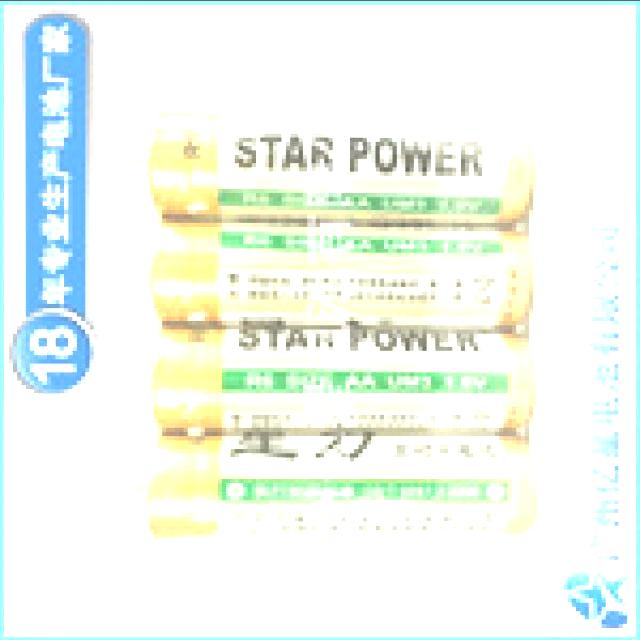AA: (129, 100, 536, 224), (120, 430, 538, 548), (128, 319, 538, 434), (126, 220, 534, 320)
